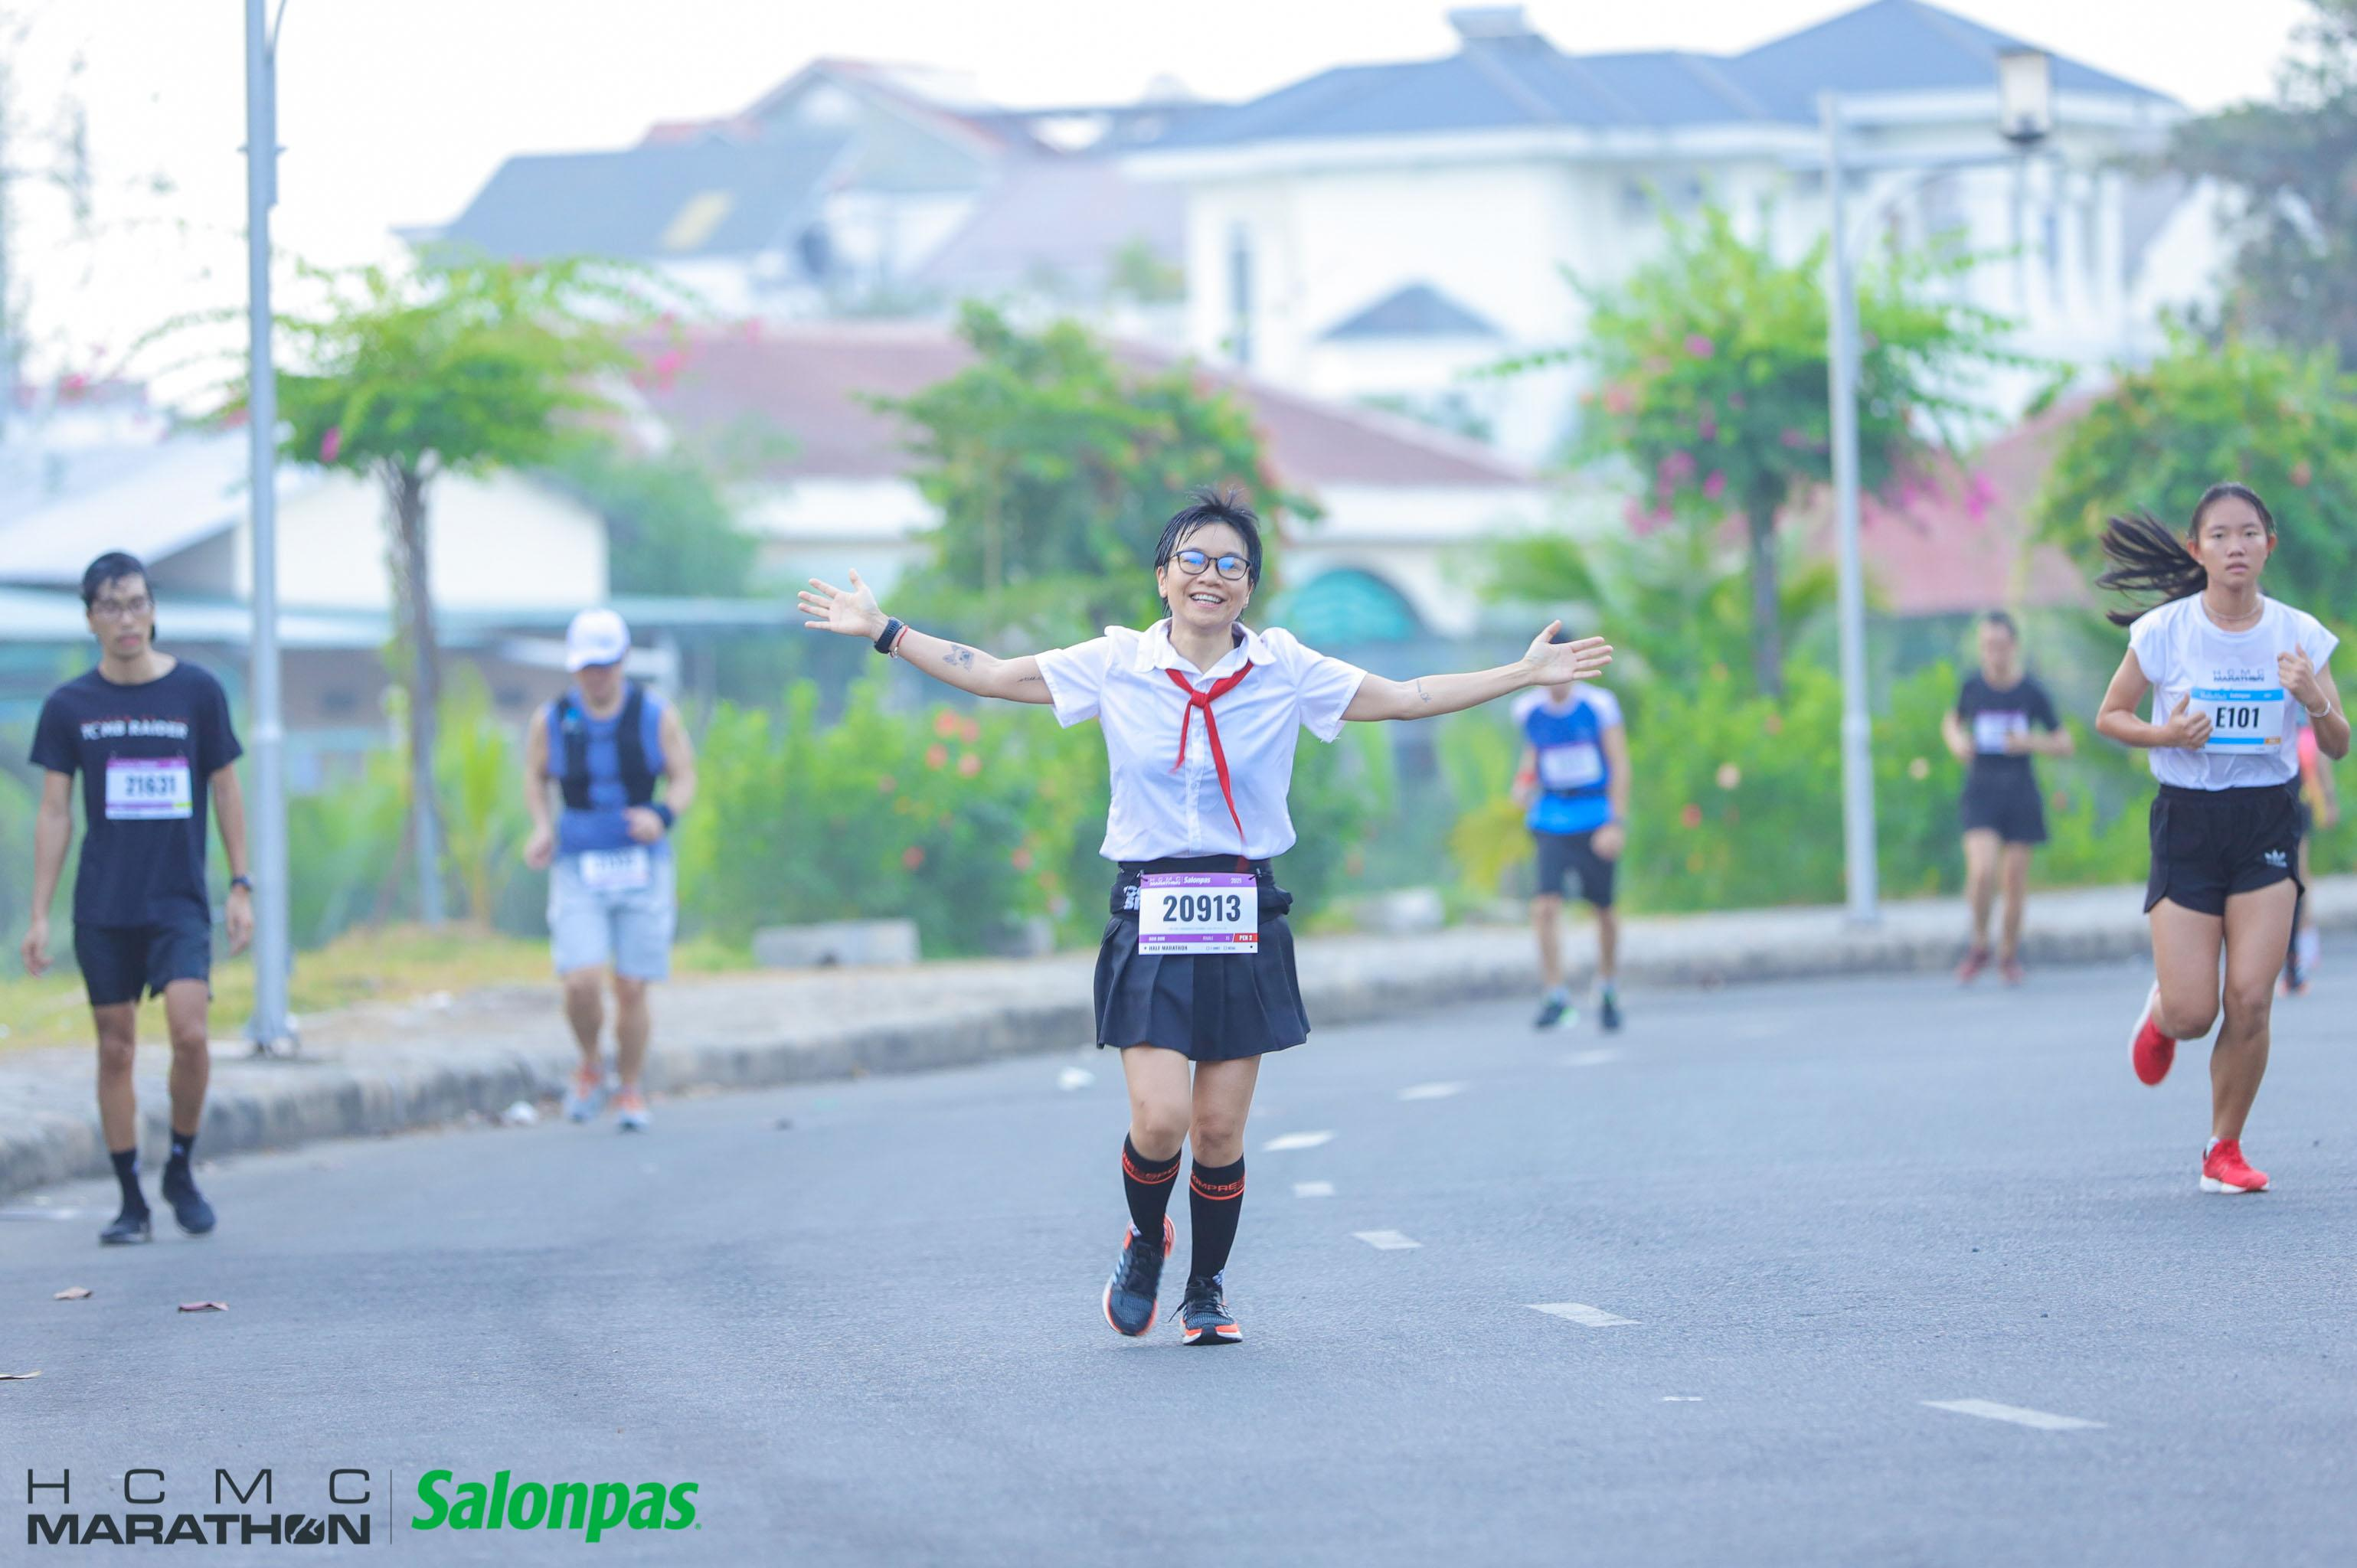bib: (1125, 870, 1255, 950), (103, 752, 196, 824), (2193, 695, 2282, 749)
